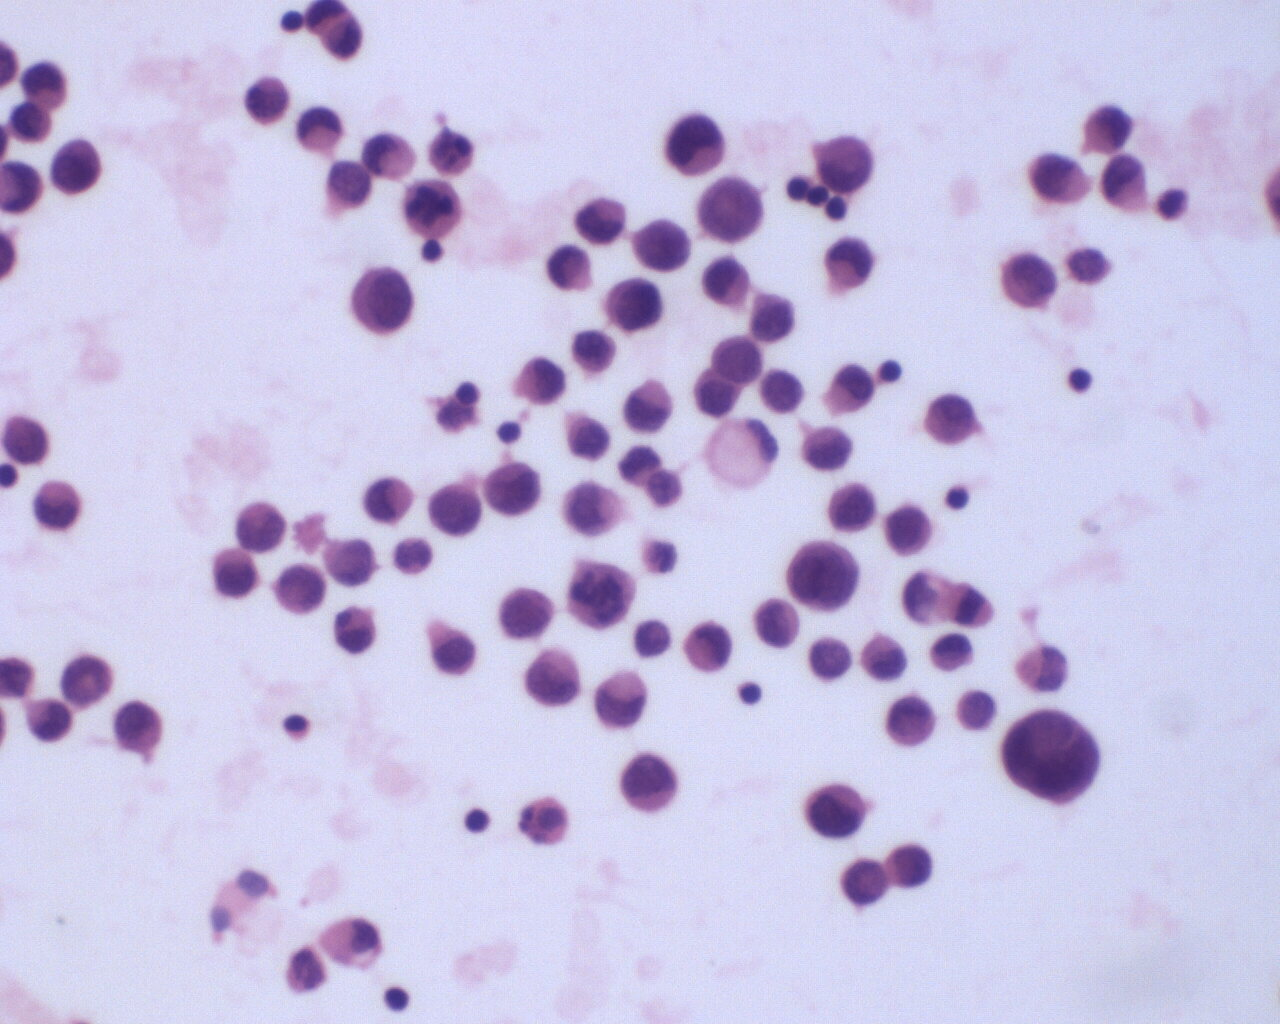ab: (1001, 706, 1106, 809), (783, 538, 867, 616), (346, 262, 416, 345), (567, 558, 638, 633), (695, 172, 768, 243), (618, 749, 685, 820), (520, 645, 587, 711), (665, 112, 727, 181), (400, 174, 468, 237), (805, 779, 870, 842), (496, 579, 560, 641), (815, 132, 877, 195), (44, 135, 106, 197), (602, 274, 665, 335), (483, 460, 546, 520), (1031, 148, 1095, 209), (426, 478, 485, 541), (632, 217, 697, 275), (922, 391, 984, 449), (879, 498, 938, 557), (999, 252, 1058, 309), (59, 651, 116, 709), (881, 692, 936, 751), (824, 479, 880, 535), (275, 562, 330, 619), (233, 499, 287, 556), (708, 332, 767, 385), (113, 695, 162, 754), (801, 423, 855, 475), (545, 240, 597, 295), (209, 545, 259, 601), (242, 73, 292, 129), (839, 856, 889, 908), (429, 623, 478, 677), (749, 294, 801, 342), (753, 598, 802, 648), (566, 415, 612, 461), (891, 841, 934, 890)
histo: (700, 415, 781, 495)
lymph: (459, 805, 493, 837), (378, 983, 412, 1014), (735, 678, 767, 708), (1067, 363, 1096, 396), (877, 357, 903, 385)
